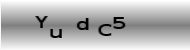5: (111, 15, 125, 30)
C: (96, 23, 112, 37)
Y: (34, 14, 49, 29)
d: (76, 17, 90, 32)
u: (48, 28, 63, 39)
